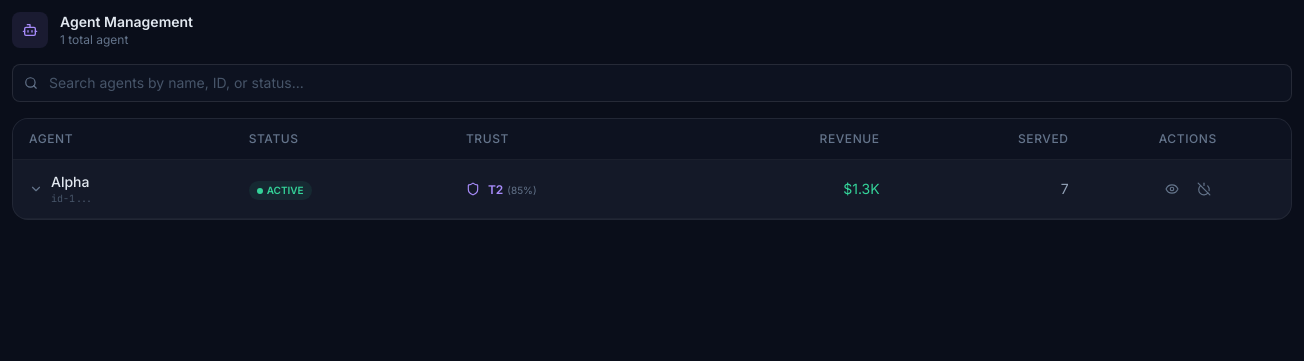
AgentManagement › shows empty state when filtered agents list is empty
Type "zzzzz" into the field with placeholder "Search agents by name, ID, or status...".
click(652, 83); type("zzzzz")  # box [12,64,1292,102]
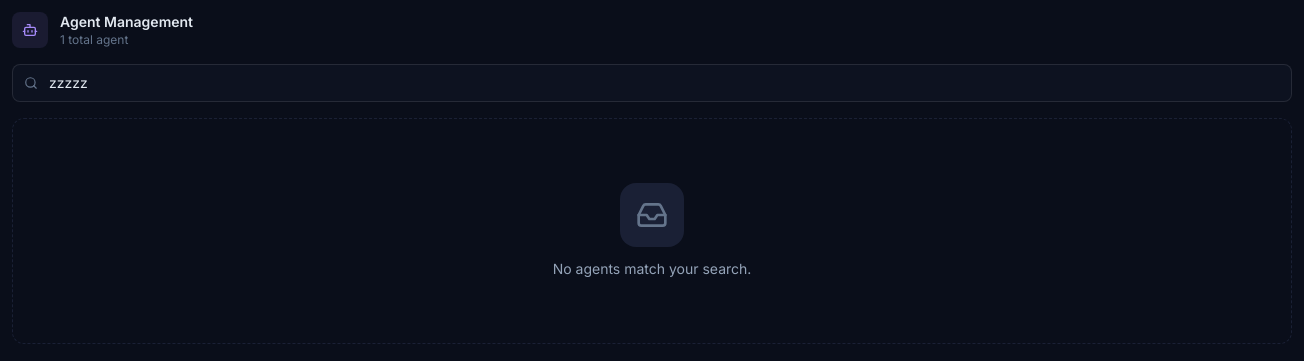
Result: the text "No agents match your search." is shown at [553,259,751,279]
